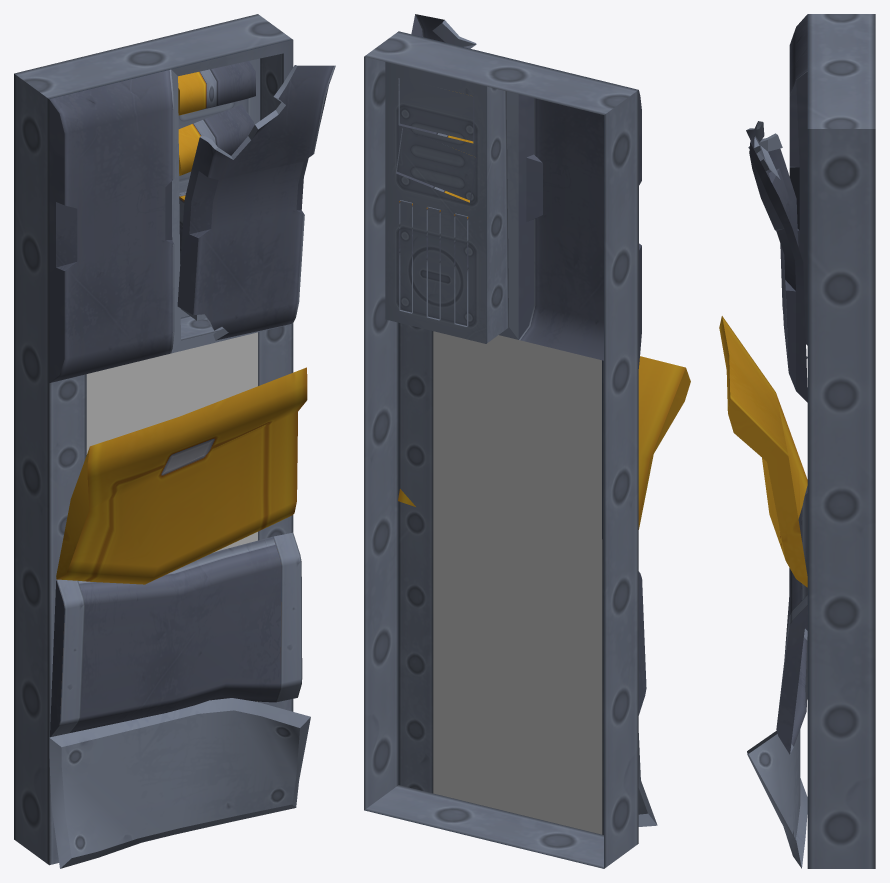
File: obj_spaceship_wall02_damaged.fbx
The picture shows the model from 3 angles, left to right: view 1: azimuth 30°, elevation 25°; view 2: azimuth 150°, elevation 25°; view 3: azimuth 270°, elevation 25°; orthographic projection. The views are drawn at different scales.
Visible parts, largest first — view 1: polySurface213; view 2: polySurface213; view 3: polySurface213.
Boxes of the visible parts, bbox=[...] form: polySurface213: bbox=[14, 14, 335, 868]; polySurface213: bbox=[364, 14, 690, 868]; polySurface213: bbox=[719, 14, 875, 868].
Bounding box in the file's own units: 4.33 × 12.01 × 2.3.
